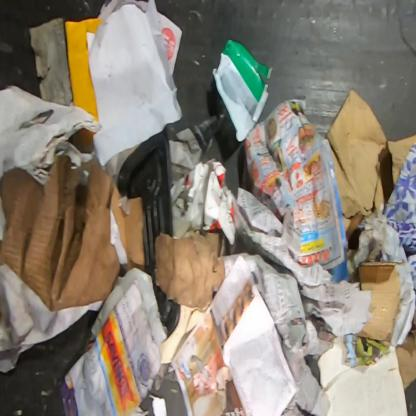cardboard: (0, 153, 146, 312), (326, 91, 393, 244), (155, 232, 225, 310), (356, 263, 405, 343), (388, 134, 415, 192), (397, 308, 415, 391)
rigid_plastic: (117, 129, 180, 339), (212, 40, 272, 142)
